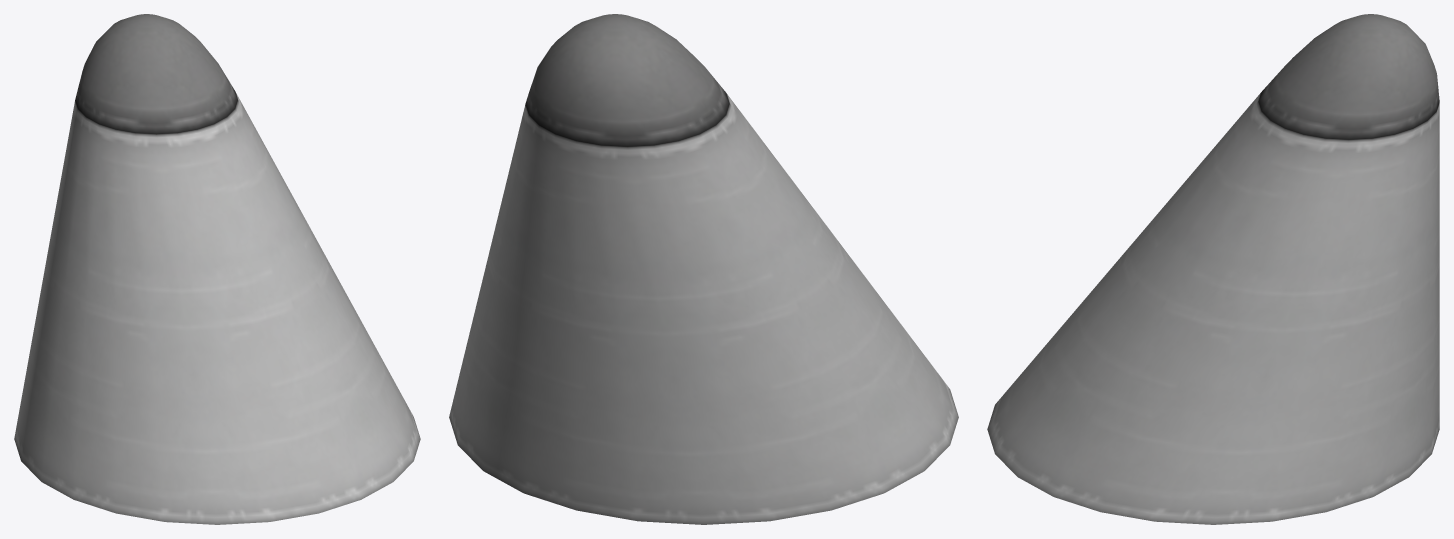
The model's file is black_arrow_nose_cone_s0_2.obj.
The picture shows the model from 3 angles, left to right: view 1: azimuth 30°, elevation 25°; view 2: azimuth 150°, elevation 25°; view 3: azimuth 270°, elevation 25°; orthographic projection. The views are drawn at different scales.
Visible parts, largest first — view 1: mesh1; view 2: mesh1; view 3: mesh1.
Part boxes in pixels (left/top/right/bottom): mesh1: left=14, top=14, right=420, bottom=524; mesh1: left=449, top=14, right=958, bottom=524; mesh1: left=987, top=14, right=1439, bottom=524.
Bounding box in the file's own units: 0.625 × 0.625 × 0.625.
